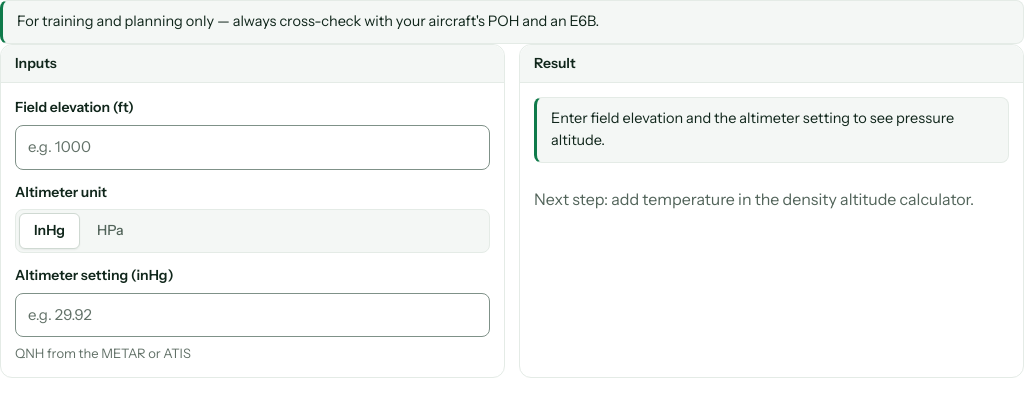
Scenario: PressureAltitudeCalculator › hPa: elev 0, 1003.25 hPa → 274 ft
The width and height of the screenshot is (1024, 395).
Click the tab "hPa" at (110, 231), box left=82, top=213, right=139, bottom=249
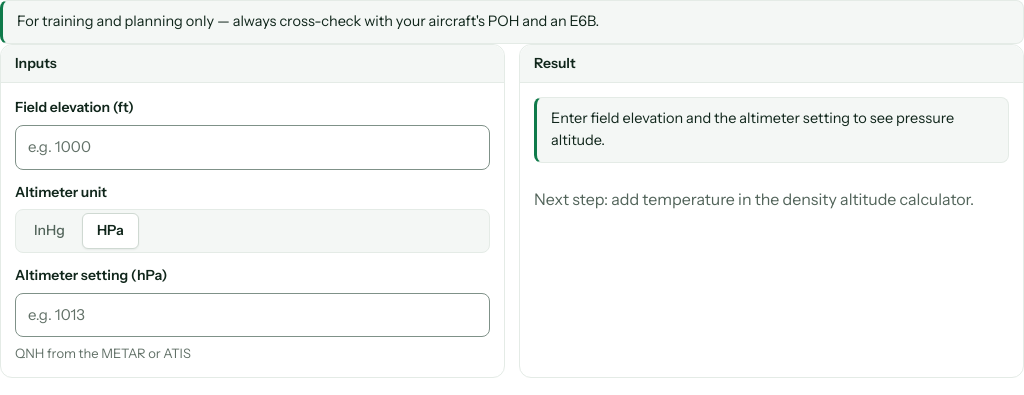
Type "0" into the number field with placeholder "e.g. 1000" at (252, 147), box left=15, top=125, right=490, bottom=170
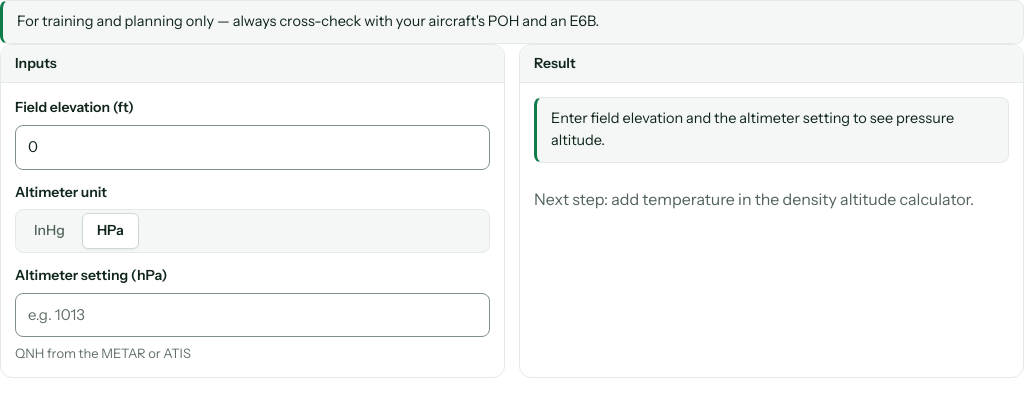
Type "1003.25" into the number field with placeholder "e.g. 1013" at (252, 315), box left=15, top=293, right=490, bottom=337
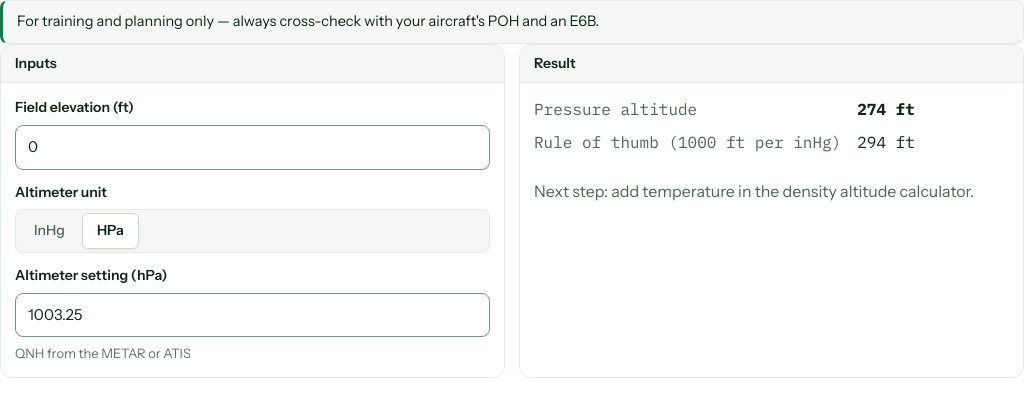
Check: the text "274 ft" is shown, box left=857, top=99, right=915, bottom=119
